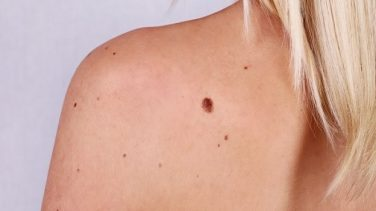mole: (196, 93, 223, 118), (62, 94, 84, 113), (222, 132, 238, 146)
